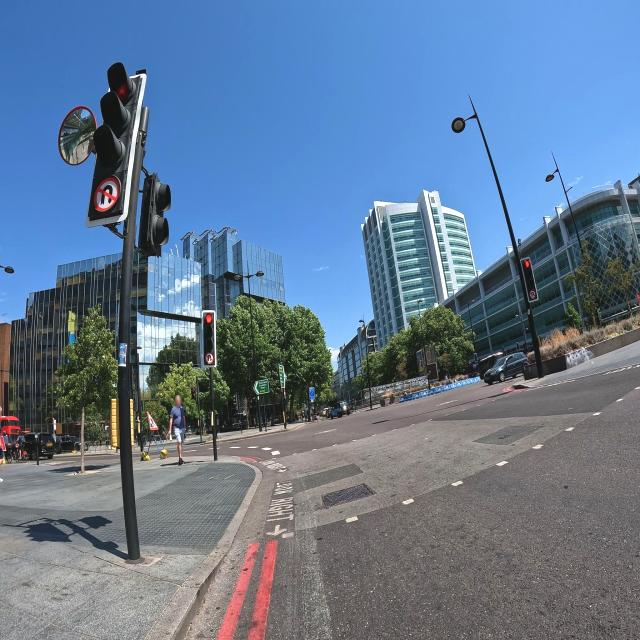car: (483, 354, 524, 384), (0, 414, 21, 458), (14, 431, 38, 461), (29, 432, 54, 460), (58, 434, 78, 452), (232, 415, 242, 431), (329, 406, 339, 419), (321, 407, 329, 418)
